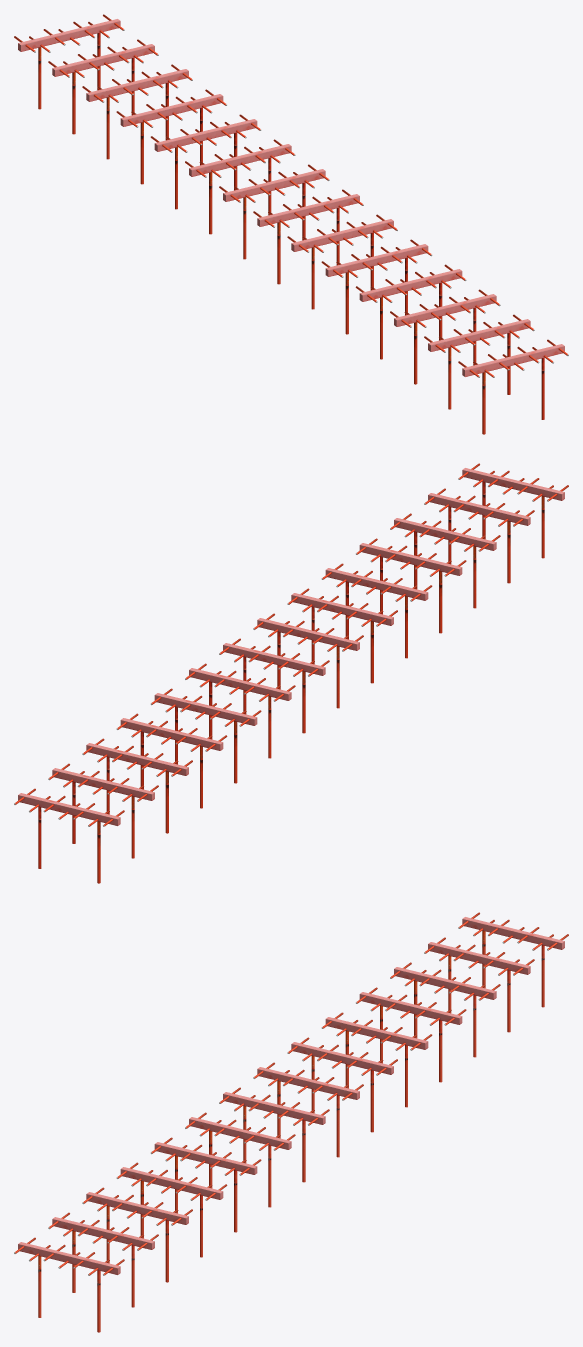
The model's file is ILS_Antennas.gltf.
3 renders of one model, top to bottom at view 1: azimuth 30°, elevation 25°; view 2: azimuth 150°, elevation 25°; view 3: azimuth 330°, elevation 25°, orthographic.
Parts seen in each view (by area): view 1: ILS_Antennas; view 2: ILS_Antennas; view 3: ILS_Antennas.
Part boxes in pixels (x1=…): ILS_Antennas: x1=14, y1=14, x2=568, y2=434; ILS_Antennas: x1=14, y1=463, x2=568, y2=883; ILS_Antennas: x1=14, y1=912, x2=568, y2=1332.
Bounding box in the file's own units: 3.37 × 2.24 × 27.19.
1 material, 1 textured.
